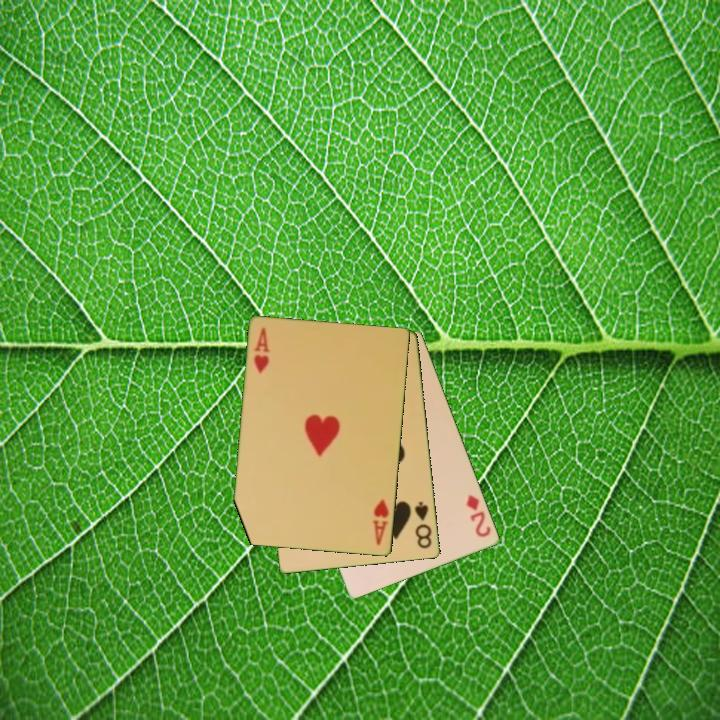2d: (463, 491, 494, 540)
8s: (411, 498, 435, 552)
Ah: (370, 496, 392, 548), (251, 324, 272, 377)
